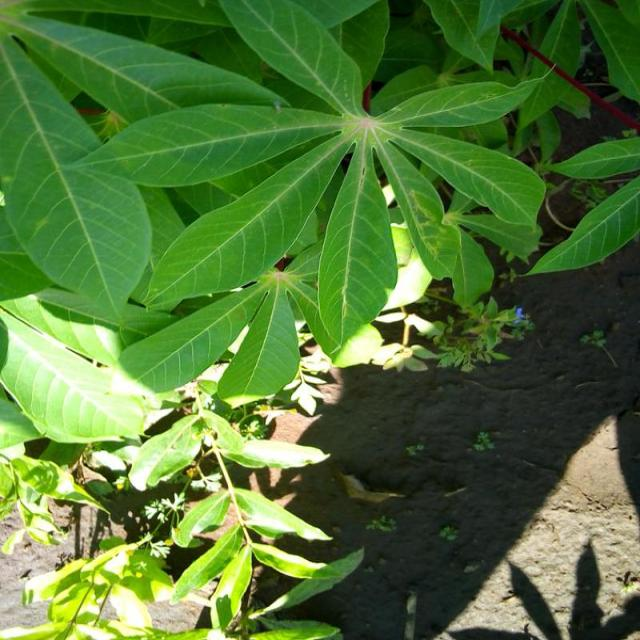cassava leaf: (317, 130, 399, 359)
